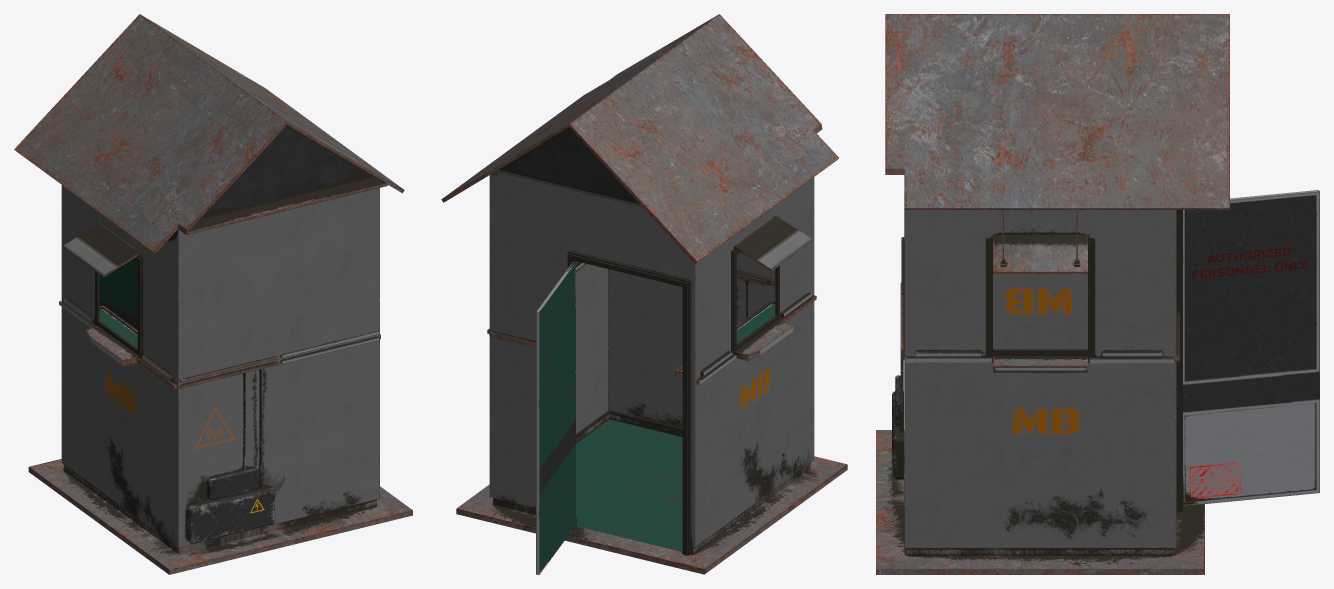
Rendered from guardRoom.glb.
The picture shows the model from 3 angles, left to right: view 1: azimuth 30°, elevation 25°; view 2: azimuth 150°, elevation 25°; view 3: azimuth 270°, elevation 25°; orthographic projection. The views are drawn at different scales.
Visible parts, largest first — view 1: Boole; view 2: Boole; view 3: Boole.
Part boxes in pixels (x1,y1,x2,y2): Boole: (14, 14, 412, 574); Boole: (441, 14, 847, 574); Boole: (876, 14, 1319, 574).
Bounding box in the file's own units: 2.72 × 3.98 × 3.26.
Materials: 1 (1 with a texture image).
